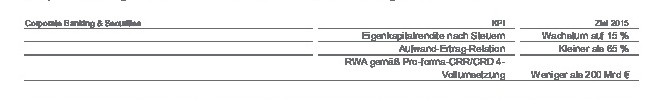table: (0, 0, 656, 99)
